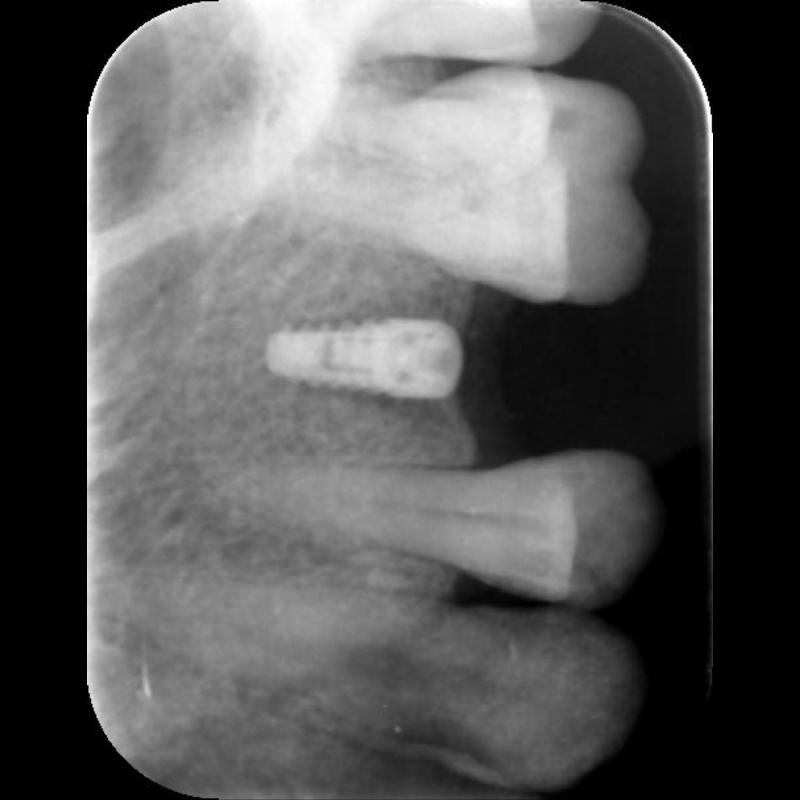ADIN: (269, 312, 467, 400)
